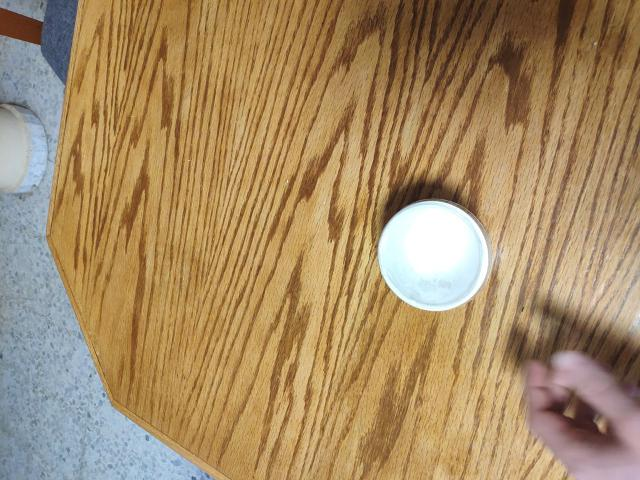cotage: (369, 203, 512, 326)
